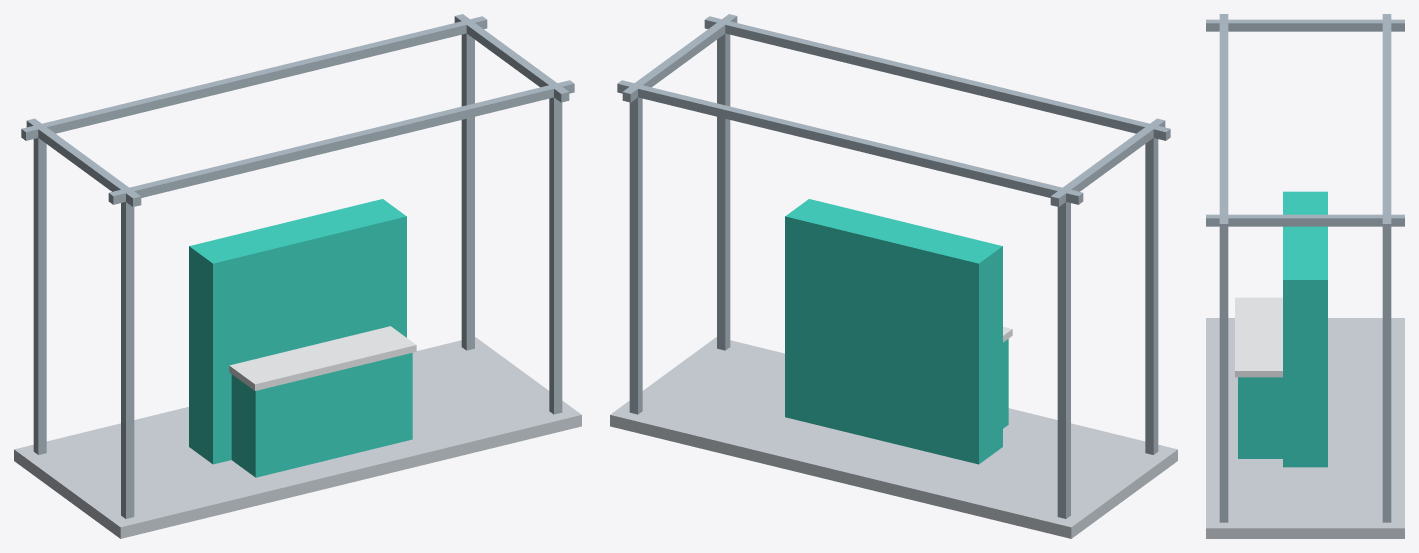
3 renders of one model, left to right at view 1: azimuth 30°, elevation 25°; view 2: azimuth 150°, elevation 25°; view 3: azimuth 270°, elevation 25°, orthographic. The views are drawn at different scales.
Visible parts, largest first — view 1: Exhibition Booth Concept; view 2: Exhibition Booth Concept; view 3: Exhibition Booth Concept.
Part boxes in pixels (x1,y1,x2,y2): Exhibition Booth Concept: (14, 14, 581, 538); Exhibition Booth Concept: (610, 14, 1177, 538); Exhibition Booth Concept: (1206, 14, 1404, 538).
Bounding box in the file's own units: 5 × 3.49 × 2.
